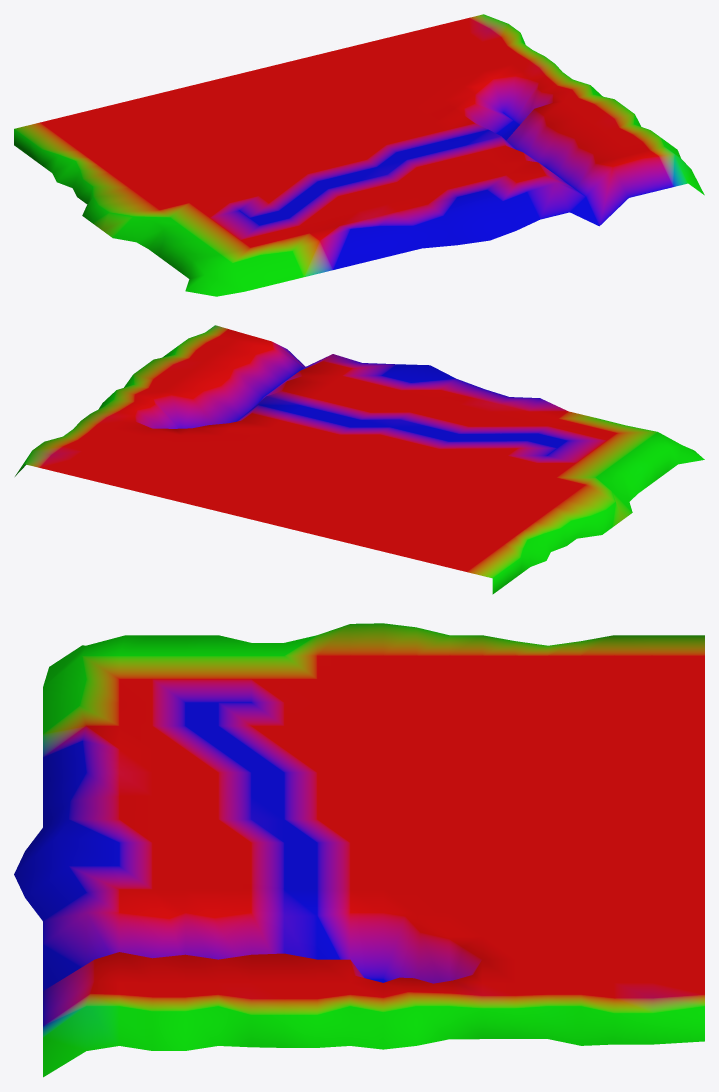
Rendered from ground.fbx.
3 renders of one model, top to bottom at view 1: azimuth 30°, elevation 25°; view 2: azimuth 150°, elevation 25°; view 3: azimuth 270°, elevation 25°, orthographic. The views are drawn at different scales.
Parts seen in each view (by area): view 1: Plane; view 2: Plane; view 3: Plane.
Part boxes in pixels (x1,y1,x2,y2): Plane: [14, 14, 704, 296]; Plane: [15, 325, 704, 594]; Plane: [14, 623, 704, 1077].
Bounding box in the file's own units: 1995 × 171 × 1434.
